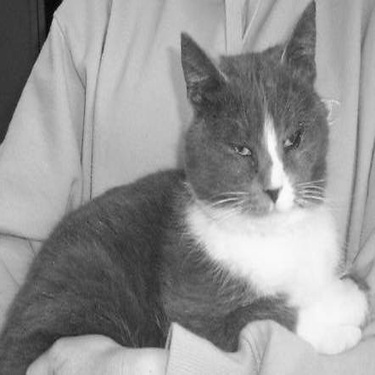cat: (1, 1, 371, 372)
